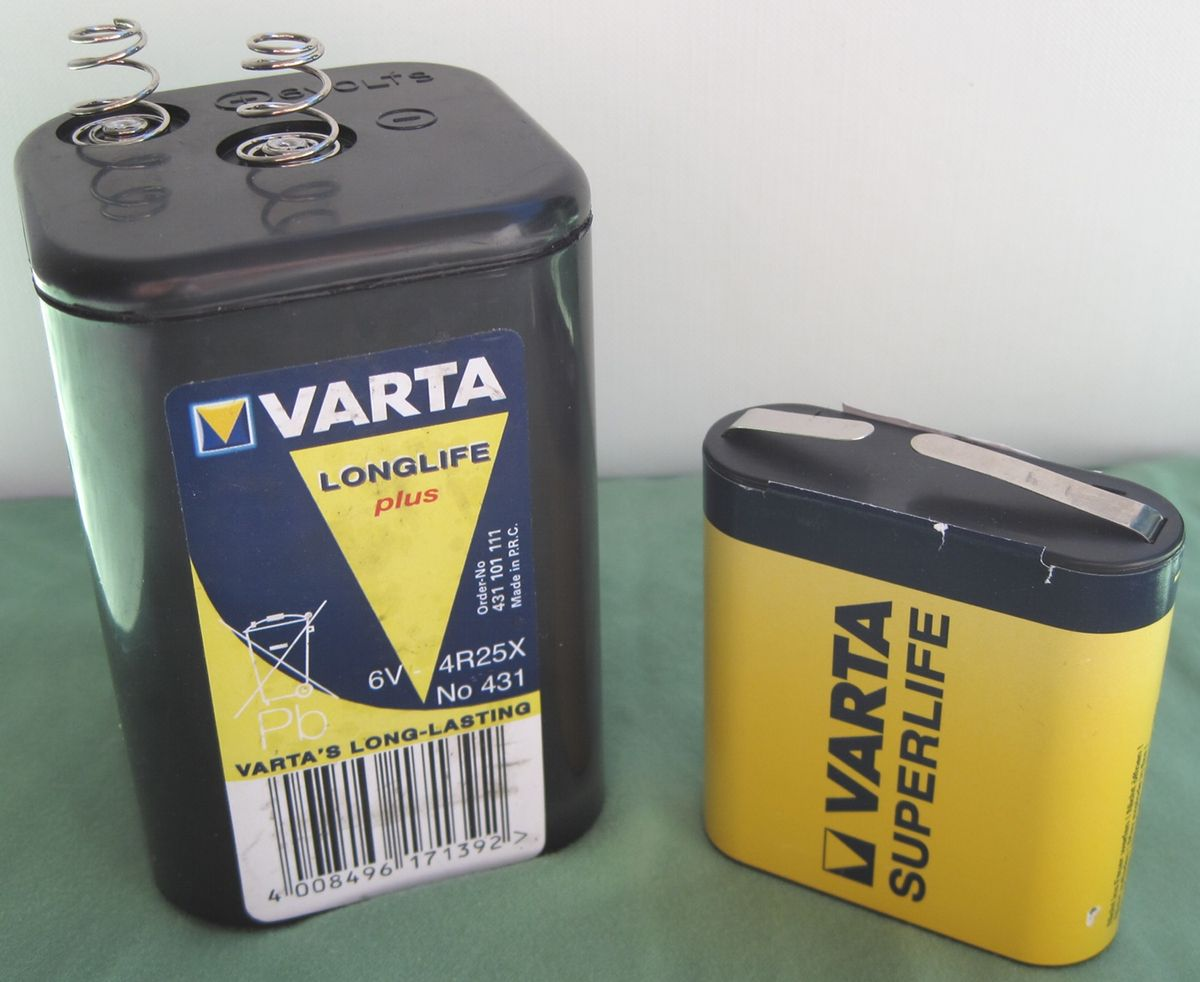6V: (15, 16, 627, 932)
